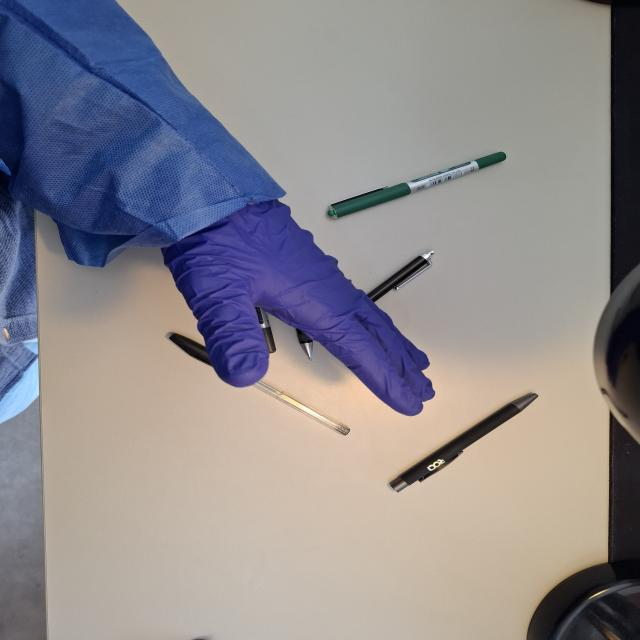glove_on: (159, 194, 439, 419)
